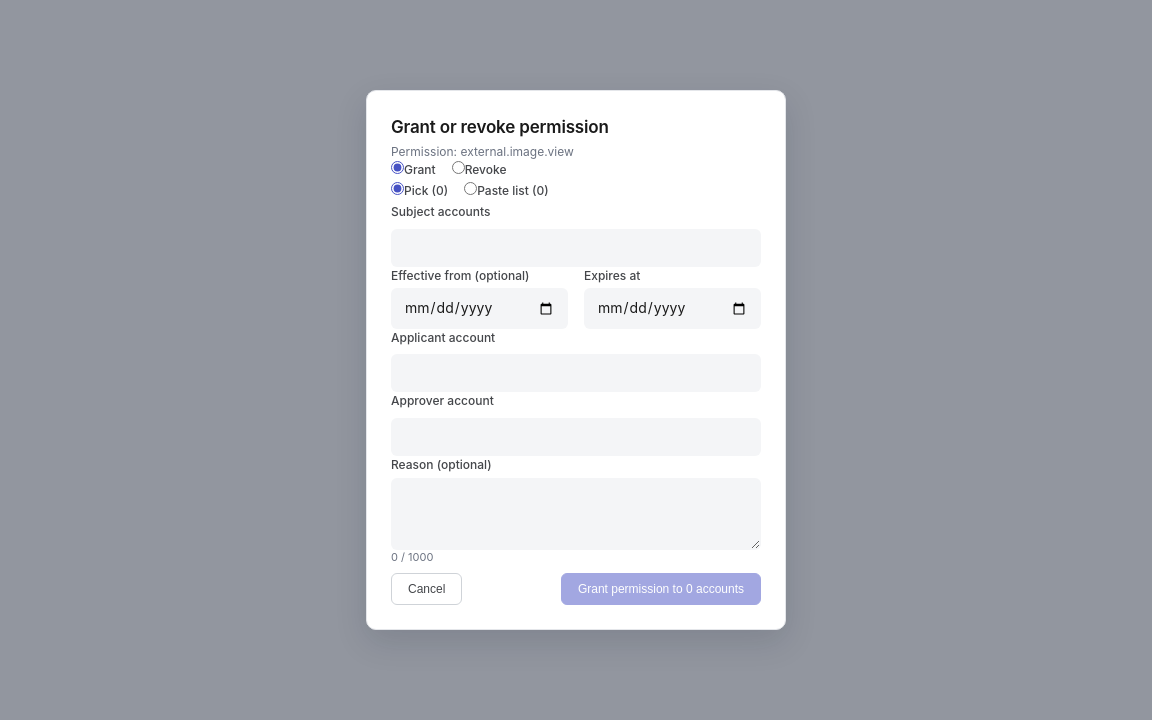
it: CreatePermissionsDialog — subject input modes › starts in pick mode and swaps the picker for a textarea when paste mode is selected
Expected: the radio button labelled "Pick (0)" is checked, [391,182,404,195]
Expected: the field labelled "subject accounts (paste list)" is not shown
Click the radio button labelled "Paste list (0)": [471, 188] box [464,182,477,195]
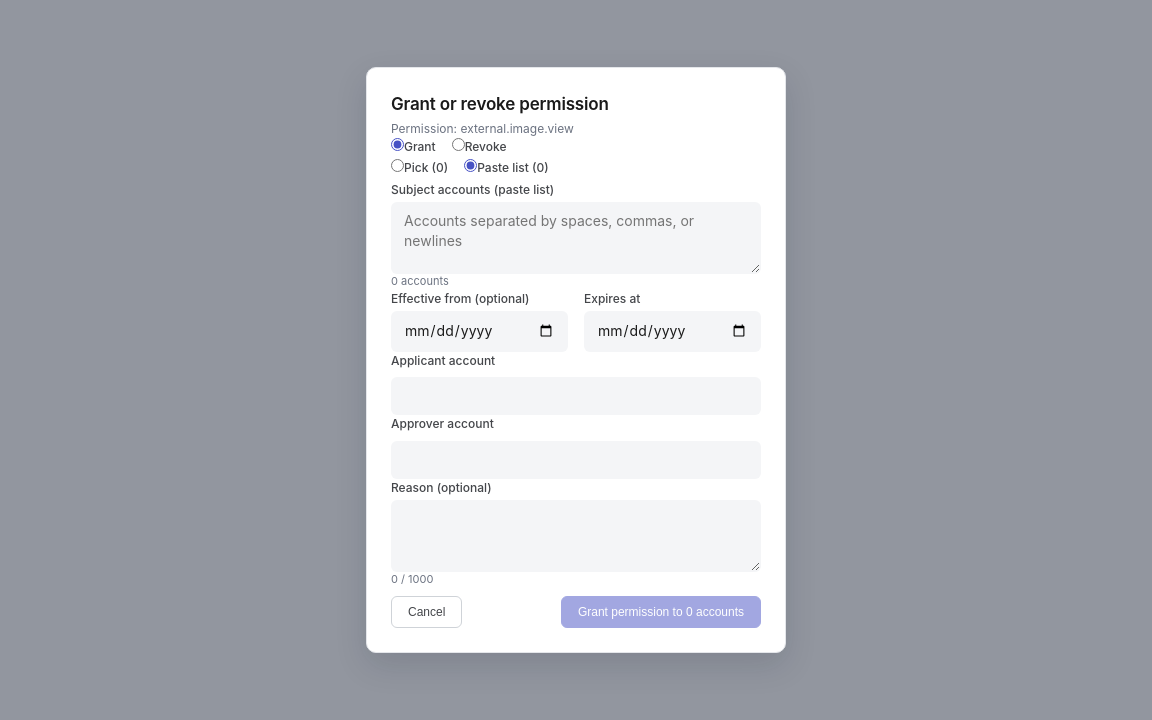
Now the text box labelled "Subject accounts (paste list)" is shown, box [391,202,761,274]
